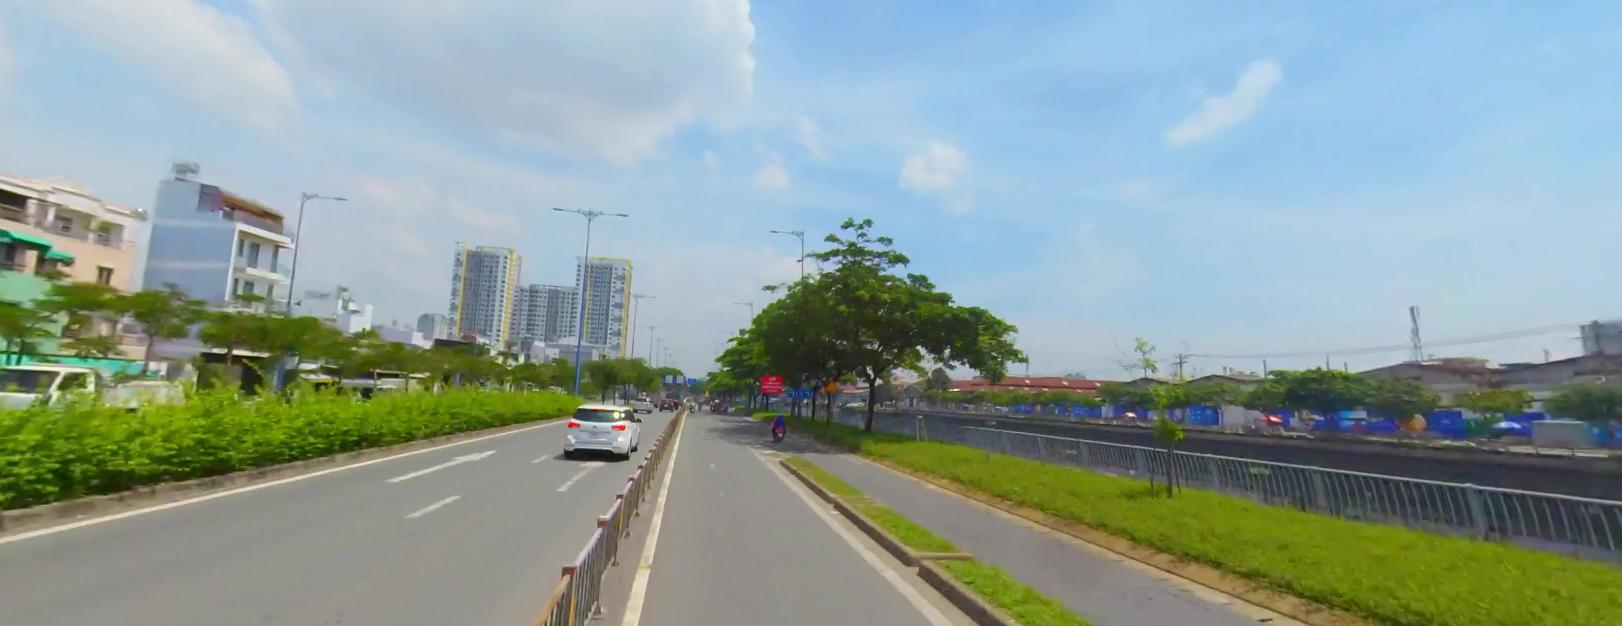Nguy hiem: (825, 377, 837, 390), (824, 379, 837, 390), (825, 378, 837, 389)
